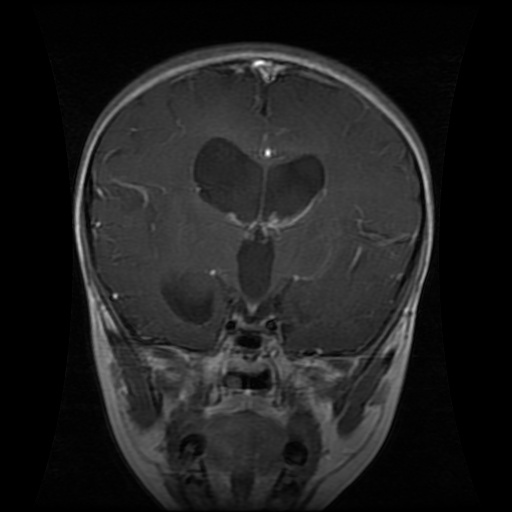glioma: (155, 268, 230, 327)
